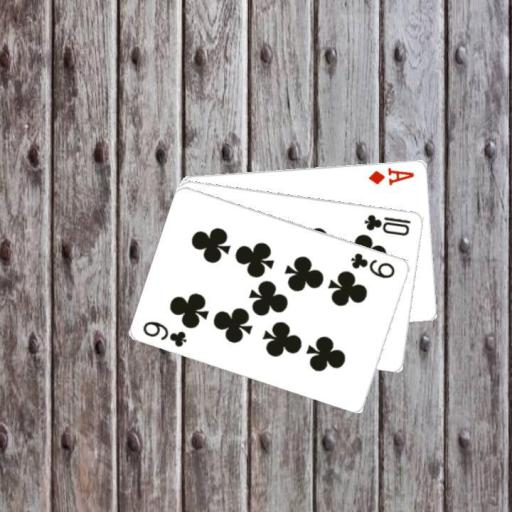10C: (362, 210, 413, 237)
9C: (347, 250, 397, 280), (140, 318, 189, 348)
AD: (366, 165, 416, 187)
